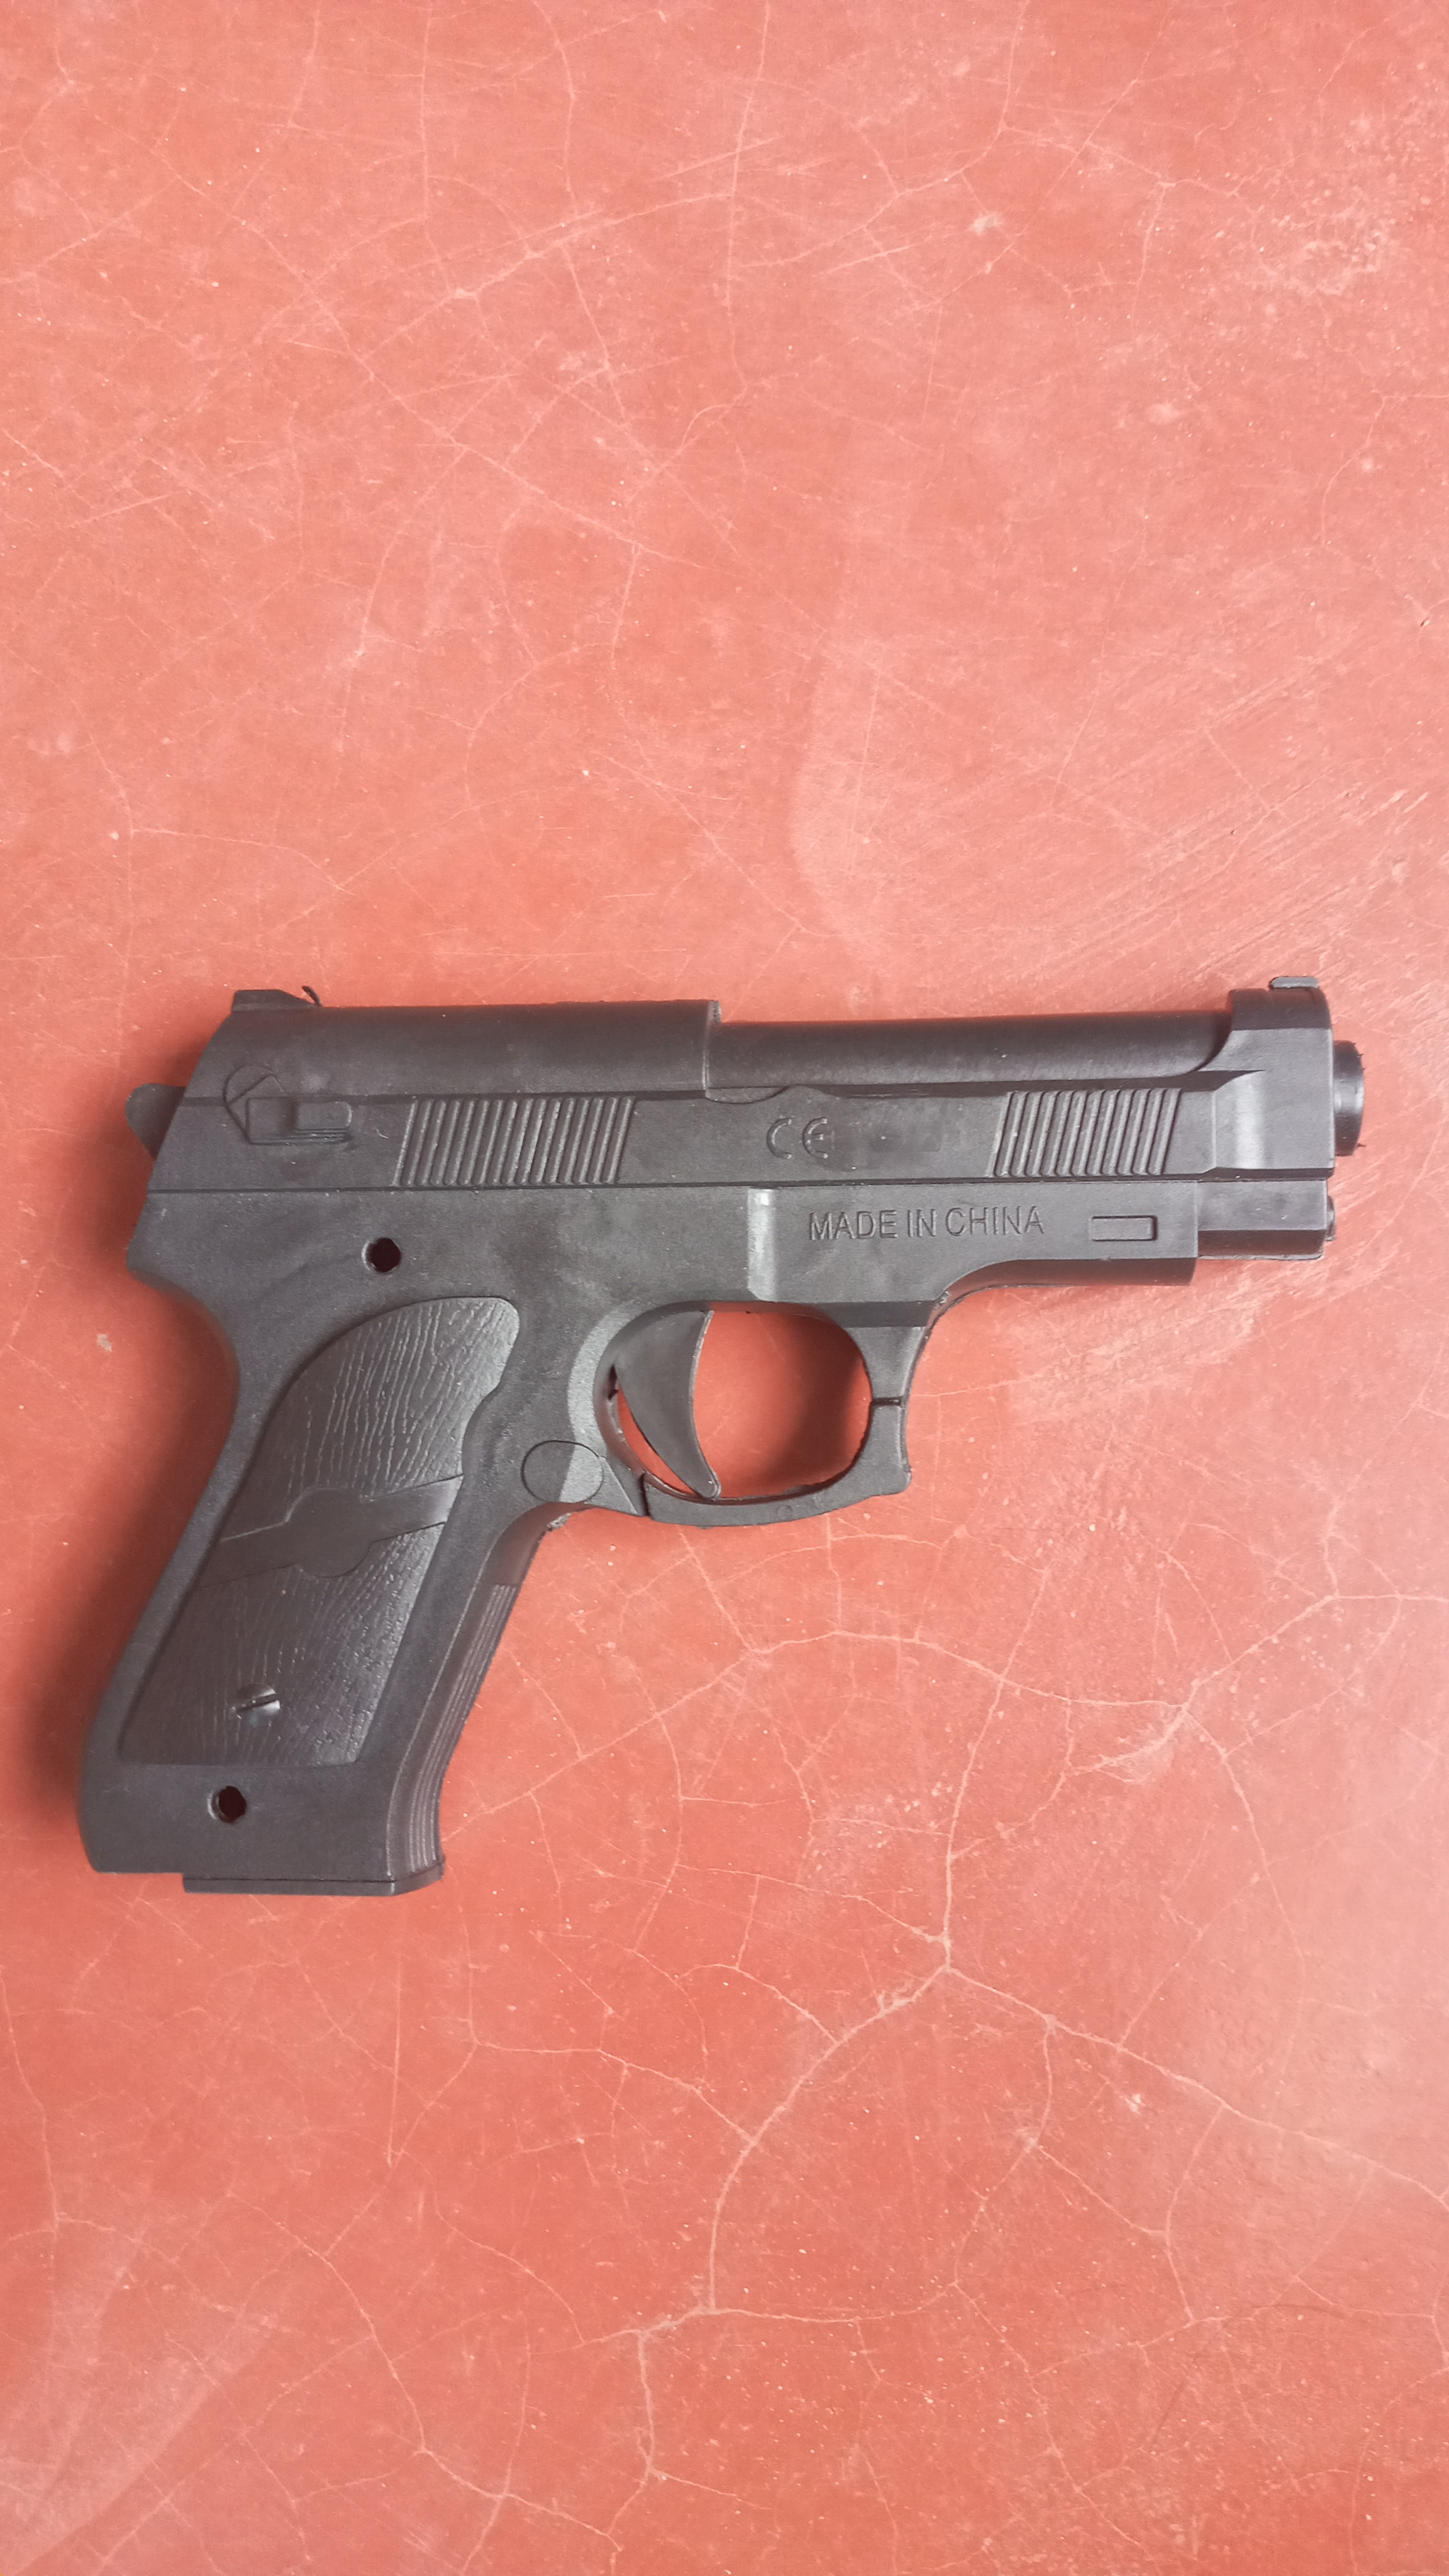Arma: (133, 989, 1359, 1539)
